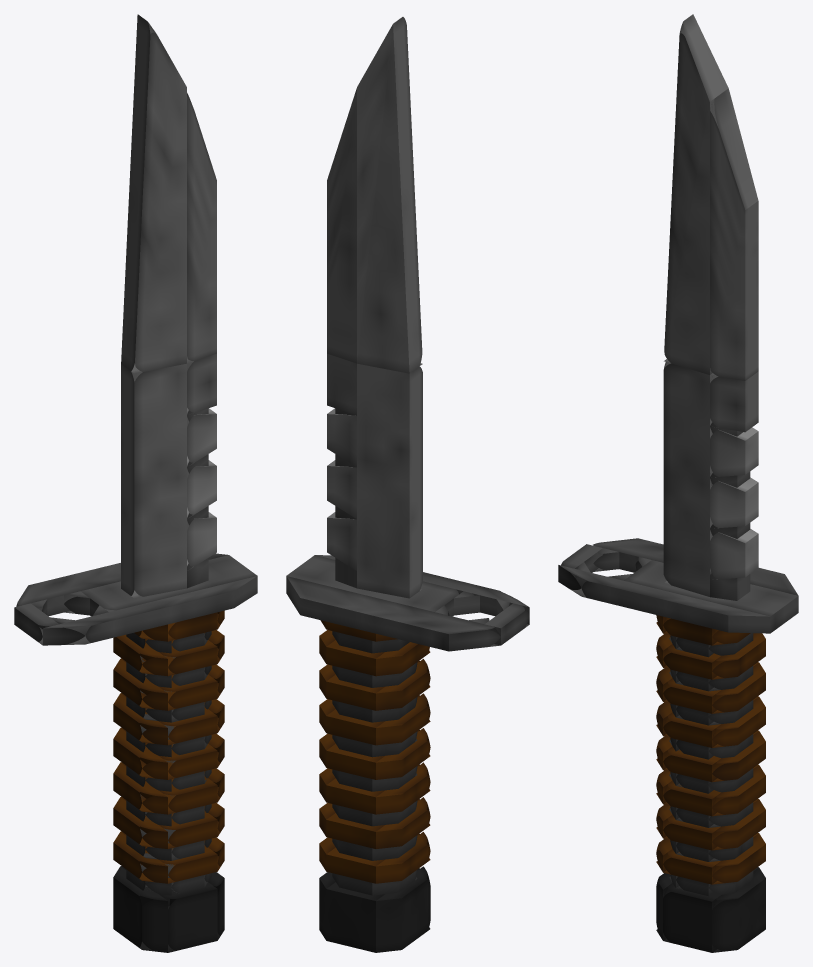
The model's file is combatknife.obj.
3 views of the same model, side by side, from view 1: azimuth 30°, elevation 25°; view 2: azimuth 150°, elevation 25°; view 3: azimuth 330°, elevation 25° (orthographic).
Parts seen in each view (by area): view 1: gunModel4, gunModel13, gunModel5, gunModel6, gunModel68, gunModel67, gunModel7, gunModel3, gunModel14, gunModel51, gunModel39, gunModel44 (+19 smaller); view 2: gunModel4, gunModel13, gunModel3, gunModel5, gunModel68, gunModel67, gunModel7, gunModel14, gunModel63, gunModel39, gunModel32, gunModel51 (+17 smaller); view 3: gunModel4, gunModel5, gunModel13, gunModel6, gunModel66, gunModel7, gunModel67, gunModel14, gunModel15, gunModel17, gunModel16, gunModel3 (+18 smaller).
Boxes of the visible parts, bbox=[...] form: gunModel4: bbox=[121, 14, 186, 373]; gunModel13: bbox=[121, 363, 186, 598]; gunModel5: bbox=[187, 93, 216, 363]; gunModel6: bbox=[43, 576, 257, 645]; gunModel68: bbox=[113, 866, 167, 952]; gunModel67: bbox=[120, 866, 217, 952]; gunModel7: bbox=[80, 555, 257, 616]; gunModel3: bbox=[16, 553, 227, 616]; gunModel14: bbox=[187, 353, 216, 414]; gunModel51: bbox=[113, 728, 167, 779]; gunModel39: bbox=[113, 659, 167, 710]; gunModel44: bbox=[113, 762, 167, 814]; gunModel4: bbox=[357, 17, 422, 373]; gunModel13: bbox=[357, 363, 422, 598]; gunModel3: bbox=[286, 576, 500, 651]; gunModel5: bbox=[327, 88, 356, 363]; gunModel68: bbox=[376, 866, 430, 952]; gunModel67: bbox=[326, 868, 419, 952]; gunModel7: bbox=[286, 555, 459, 616]; gunModel14: bbox=[327, 353, 356, 415]; gunModel63: bbox=[376, 797, 430, 848]; gunModel39: bbox=[376, 659, 430, 710]; gunModel32: bbox=[376, 693, 430, 745]; gunModel51: bbox=[376, 728, 430, 779]; gunModel4: bbox=[664, 14, 728, 374]; gunModel5: bbox=[710, 88, 758, 380]; gunModel13: bbox=[663, 362, 717, 596]; gunModel6: bbox=[558, 565, 770, 633]; gunModel66: bbox=[712, 867, 765, 952]; gunModel7: bbox=[628, 560, 798, 633]; gunModel67: bbox=[663, 867, 758, 952]; gunModel14: bbox=[710, 371, 758, 432]; gunModel15: bbox=[710, 529, 758, 579]; gunModel17: bbox=[710, 477, 758, 528]; gunModel16: bbox=[710, 427, 758, 477]; gunModel3: bbox=[593, 538, 798, 595].
Bounding box in the file's own units: 13 × 53 × 6.
